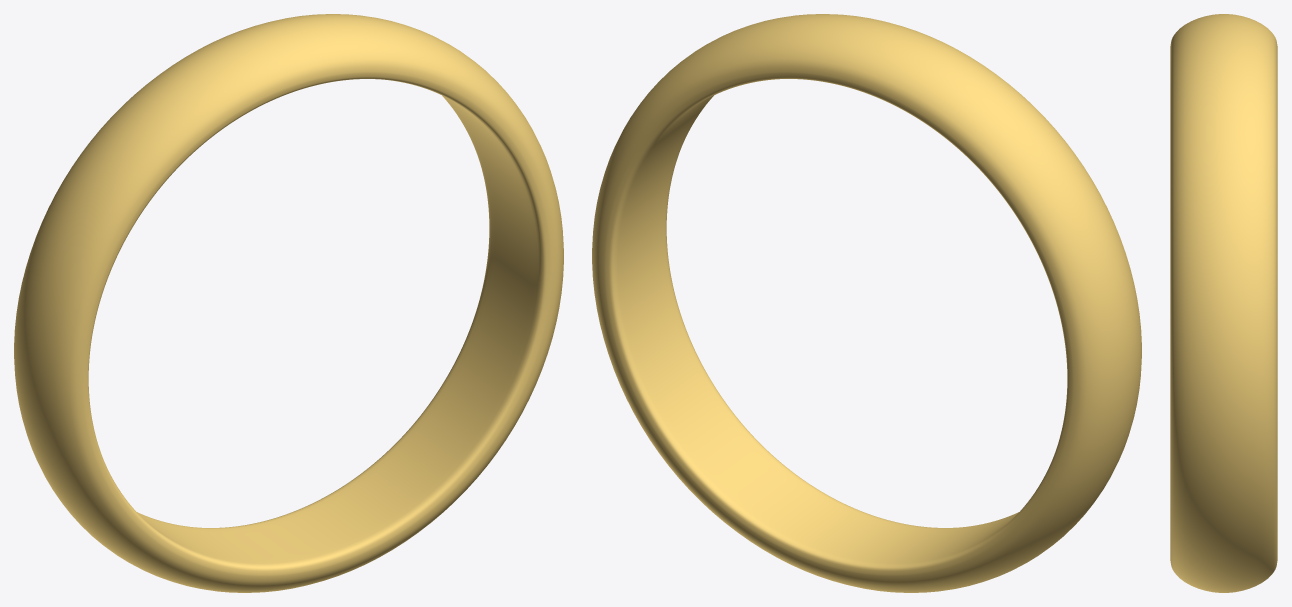
Rendered from Pat4ygwb_blender.glb.
3 renders of one model, left to right at view 1: azimuth 30°, elevation 25°; view 2: azimuth 150°, elevation 25°; view 3: azimuth 270°, elevation 25°, orthographic. The views are drawn at different scales.
Parts seen in each view (by area): view 1: Patrick 4 mm YG for 3d model; view 2: Patrick 4 mm YG for 3d model; view 3: Patrick 4 mm YG for 3d model.
Boxes of the visible parts, x1,y1,x2,y2 form: Patrick 4 mm YG for 3d model: (14,14,563,592); Patrick 4 mm YG for 3d model: (592,14,1141,592); Patrick 4 mm YG for 3d model: (1170,14,1277,592).
Size of the model in its own units: 22.17 by 22.17 by 4.1.
